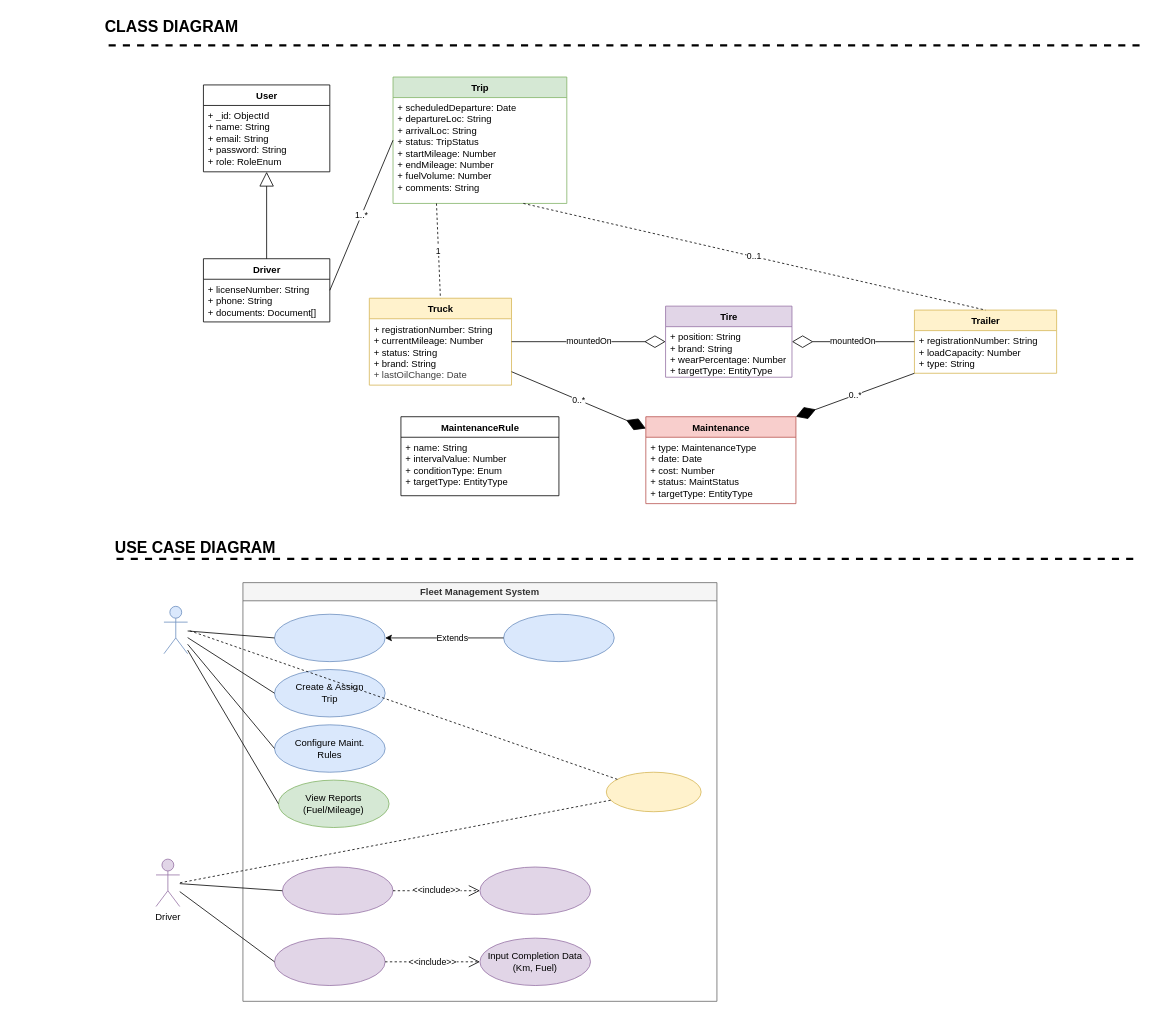
The diagram is 1162 pixels wide and 1015 high, and some of its shapes have lost their labels. Each missing label, with the centre of its shape:
Admin: (x=175, y=630)
Download Mission Order PDF: (x=535, y=890)
Login: (x=653, y=791)
Manage Trailer (CRUD): (x=558, y=637)
Manage Truck (CRUD): (x=329, y=637)
Update Status (In Progress/Done): (x=329, y=961)
View My Trips: (x=337, y=890)
